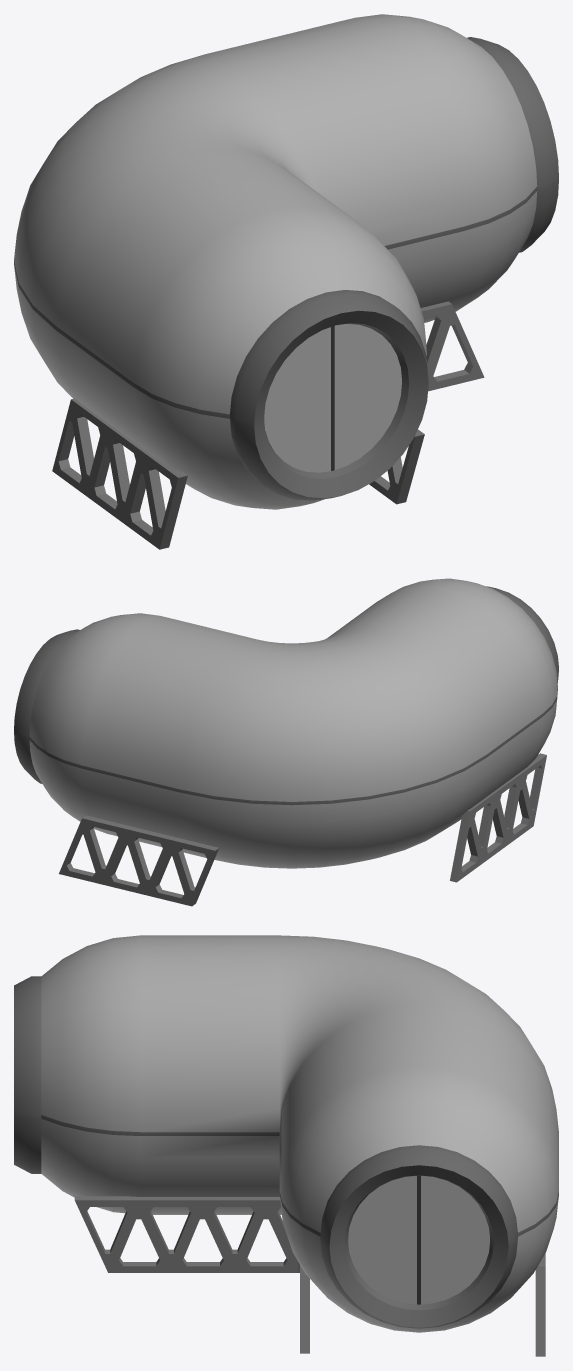
The model's file is building_l.glb.
3 views of the same model, one above another, from view 1: azimuth 30°, elevation 25°; view 2: azimuth 150°, elevation 25°; view 3: azimuth 270°, elevation 25° (orthographic). The views are drawn at different scales.
Parts seen in each view (by area): view 1: Building_L; view 2: Building_L; view 3: Building_L.
Boxes of the visible parts, x1,y1,x2,y2 form: Building_L: (14, 14, 558, 549); Building_L: (14, 578, 558, 906); Building_L: (14, 935, 558, 1356).
Size of the model in its own units: 7.8 by 4.31 by 7.79.
Materials: 1 (1 with a texture image).
